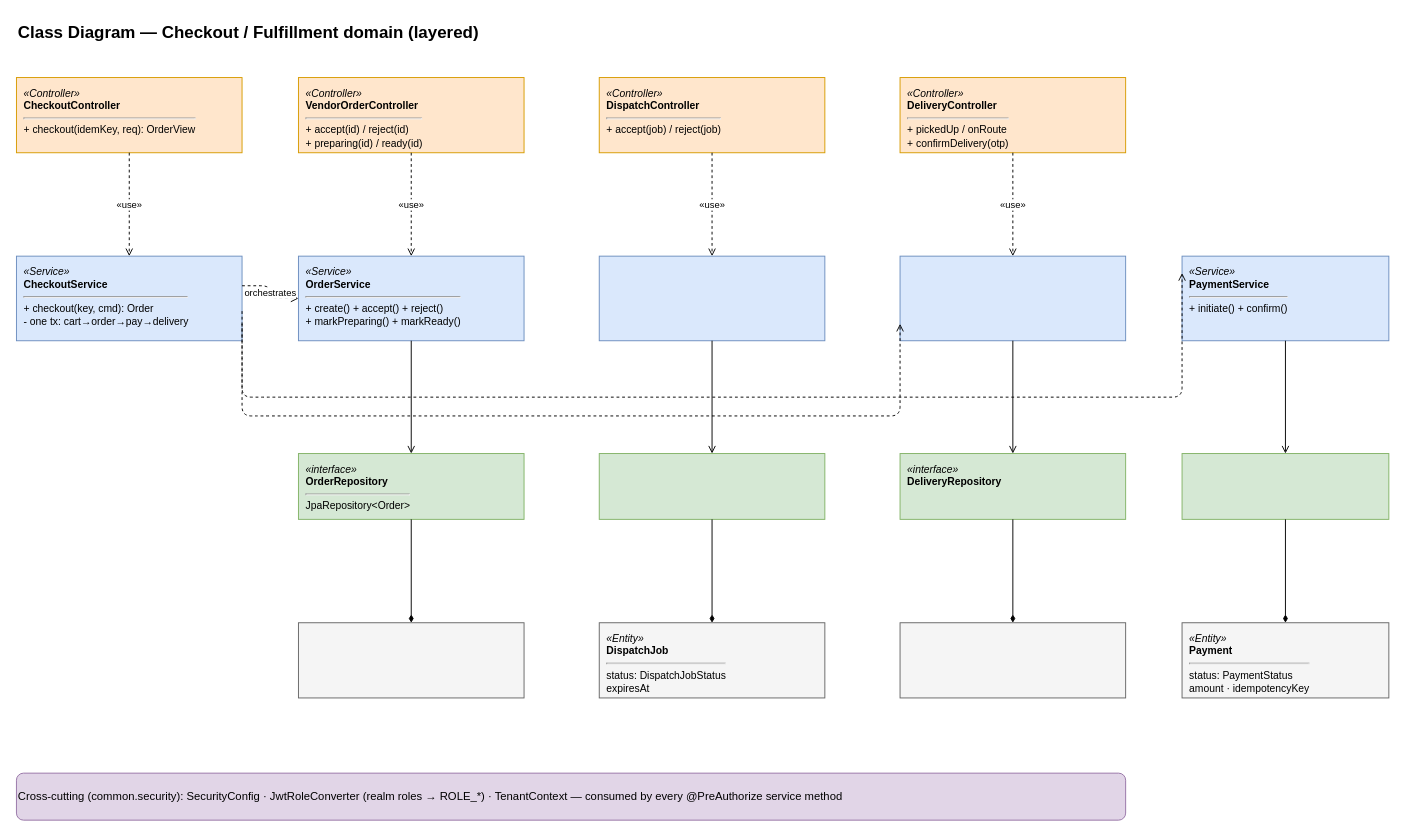
Some shapes in this 1405 by 837 pixel diagram are drawn without their labels. The box of each missing label's shape, as (x1, y1, x2, y2) in pixels:
«Entity» Delivery status: DeliveryStatus confirmationCodeHash · attempts: (899, 622, 1126, 698)
«Entity» Order id · status: OrderStatus total · codeHash: (298, 622, 524, 698)
«interface» DispatchJobRepository: (598, 453, 825, 519)
«interface» PaymentRepository: (1181, 453, 1389, 519)
«Service» DeliveryService + pickup() + onRoute() + confirmOtp(code): (899, 255, 1126, 341)
«Service» DispatchService + dispatch(order) + accept() + reassign(): (598, 255, 825, 341)
